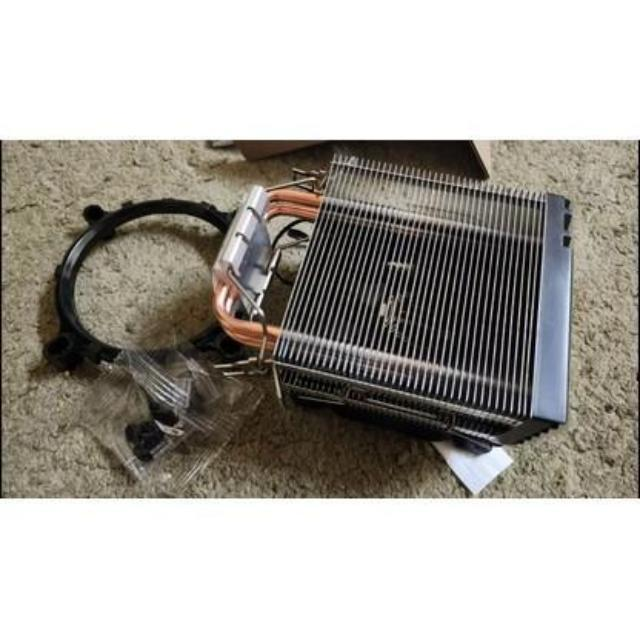CPU_Fan: (208, 144, 582, 452)
